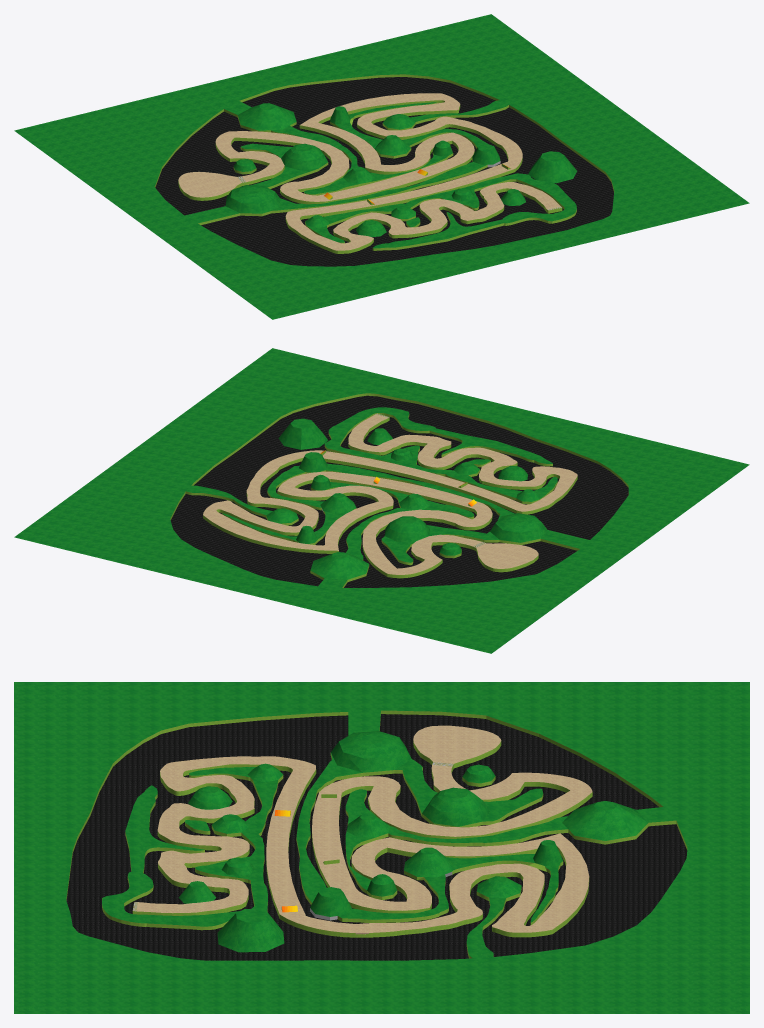
3 views of the same model, one above another, from view 1: azimuth 30°, elevation 25°; view 2: azimuth 150°, elevation 25°; view 3: azimuth 270°, elevation 25° (orthographic). The views are drawn at different scales.
Visible parts, largest first — view 1: mario_tower_defence_v5-SKP--Material3.001, mario_tower_defence_v5-SKP--Material6.001, mario_tower_defence_v5-SKP--Material2.001, mario_tower_defence_v5-SKP--Material5.001; view 2: mario_tower_defence_v5-SKP--Material3.001, mario_tower_defence_v5-SKP--Material6.001, mario_tower_defence_v5-SKP--Material2.001, mario_tower_defence_v5-SKP--Material5.001; view 3: mario_tower_defence_v5-SKP--Material3.001, mario_tower_defence_v5-SKP--Material6.001, mario_tower_defence_v5-SKP--Material2.001, mario_tower_defence_v5-SKP--Material5.001, mario_tower_defence_v5-GRP-26776-Material3.001.
Part boxes in pixels (bbox=[...]): mario_tower_defence_v5-SKP--Material3.001: bbox=[14, 14, 749, 319]; mario_tower_defence_v5-SKP--Material6.001: bbox=[155, 77, 613, 266]; mario_tower_defence_v5-SKP--Material2.001: bbox=[178, 93, 560, 250]; mario_tower_defence_v5-SKP--Material5.001: bbox=[154, 74, 614, 253]; mario_tower_defence_v5-SKP--Material3.001: bbox=[14, 348, 749, 653]; mario_tower_defence_v5-SKP--Material6.001: bbox=[170, 395, 628, 587]; mario_tower_defence_v5-SKP--Material2.001: bbox=[203, 414, 577, 574]; mario_tower_defence_v5-SKP--Material5.001: bbox=[170, 393, 628, 587]; mario_tower_defence_v5-SKP--Material3.001: bbox=[14, 682, 749, 1013]; mario_tower_defence_v5-SKP--Material6.001: bbox=[66, 714, 687, 960]; mario_tower_defence_v5-SKP--Material2.001: bbox=[136, 725, 592, 934]; mario_tower_defence_v5-SKP--Material5.001: bbox=[66, 710, 687, 958]; mario_tower_defence_v5-GRP-26776-Material3.001: bbox=[188, 786, 232, 809].
Bounding box in the file's own units: 148881 × 5824 × 139622.
7 materials, 6 textured.
